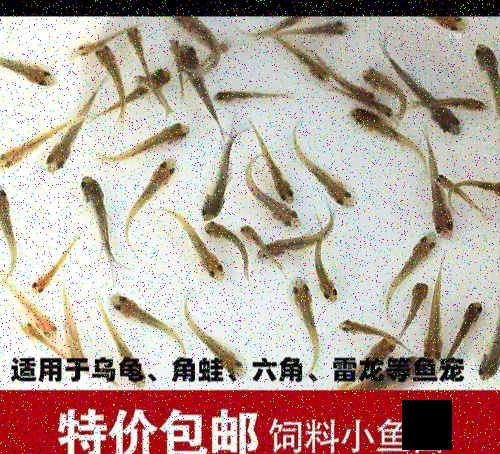fry: (291, 127, 361, 207), (75, 171, 124, 278), (184, 311, 250, 376), (0, 116, 76, 171), (249, 129, 299, 204), (285, 274, 324, 370), (107, 117, 195, 158), (125, 153, 178, 219), (193, 136, 234, 221), (386, 226, 440, 290), (419, 153, 457, 240), (107, 289, 175, 331), (179, 229, 225, 288), (107, 335, 154, 392), (418, 271, 448, 358), (413, 83, 461, 136), (0, 51, 61, 91), (25, 237, 66, 296), (94, 43, 131, 108), (10, 291, 61, 338), (178, 42, 213, 110), (58, 313, 95, 377), (242, 195, 306, 230), (0, 185, 27, 267), (62, 26, 127, 59), (453, 290, 487, 351), (311, 242, 343, 303), (377, 349, 427, 388), (254, 233, 317, 263), (39, 126, 79, 173), (211, 84, 288, 108), (345, 105, 395, 140), (332, 312, 388, 342), (119, 19, 153, 68), (136, 72, 174, 113), (347, 335, 400, 364), (126, 63, 171, 97), (295, 17, 355, 42), (199, 219, 243, 253), (470, 36, 497, 89), (472, 333, 499, 382), (406, 274, 429, 331), (443, 86, 488, 115), (430, 171, 472, 202), (296, 54, 334, 88), (357, 61, 394, 92), (174, 17, 221, 40), (247, 17, 298, 37), (238, 219, 268, 252), (423, 17, 473, 36), (458, 171, 499, 192), (164, 30, 183, 75), (204, 40, 233, 66), (19, 316, 40, 349), (348, 81, 378, 104), (374, 99, 397, 118)
